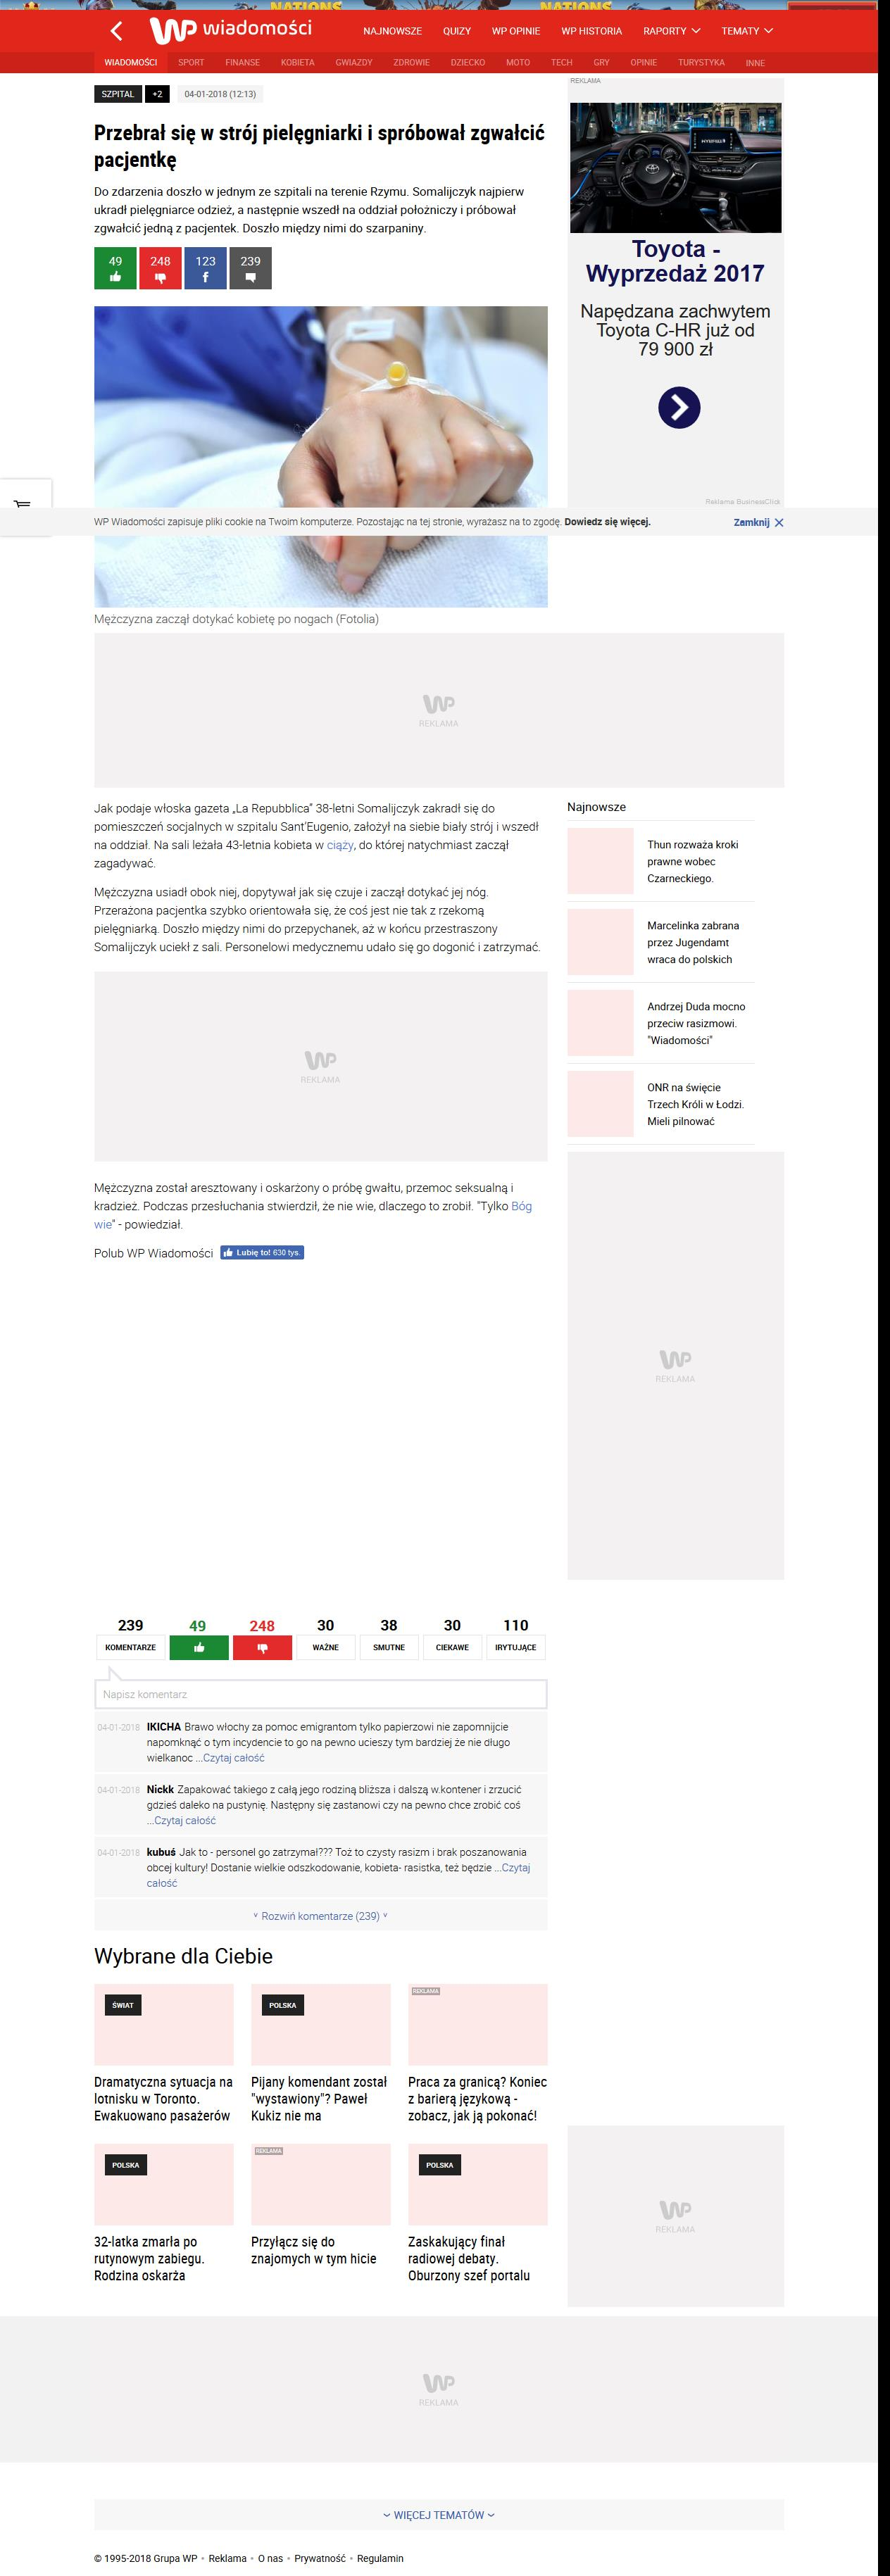title: (94, 123, 545, 173)
